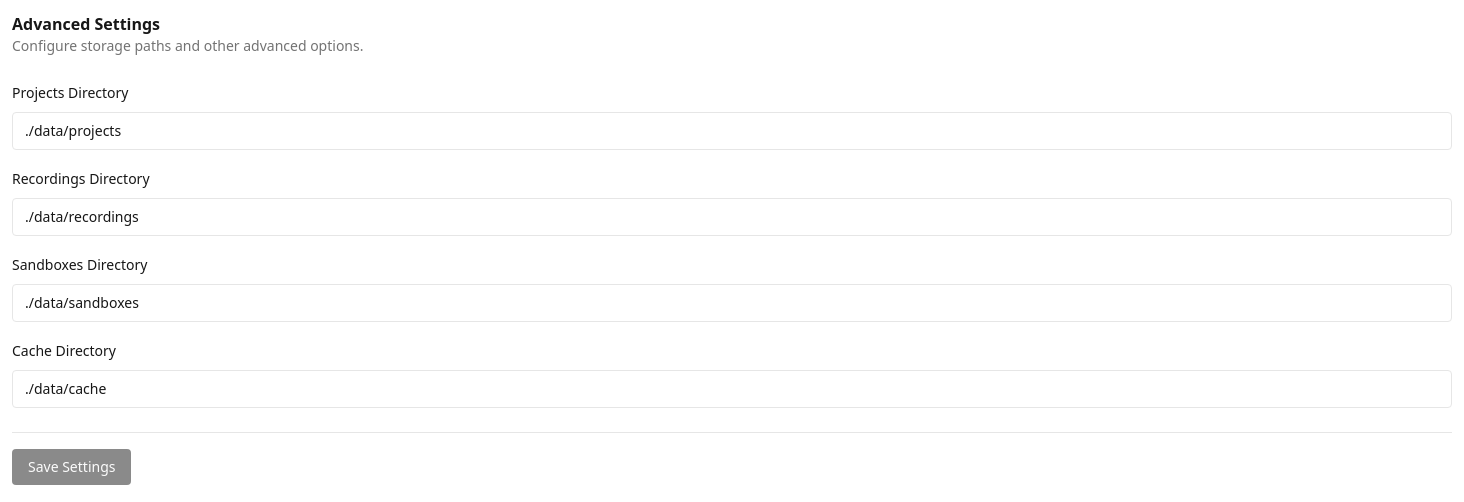
AdvancedSection › should disable Save button after saving
Replace the text in the field below "Projects Directory" with "/new/projects" at (732, 131), box [12, 112, 1452, 150]
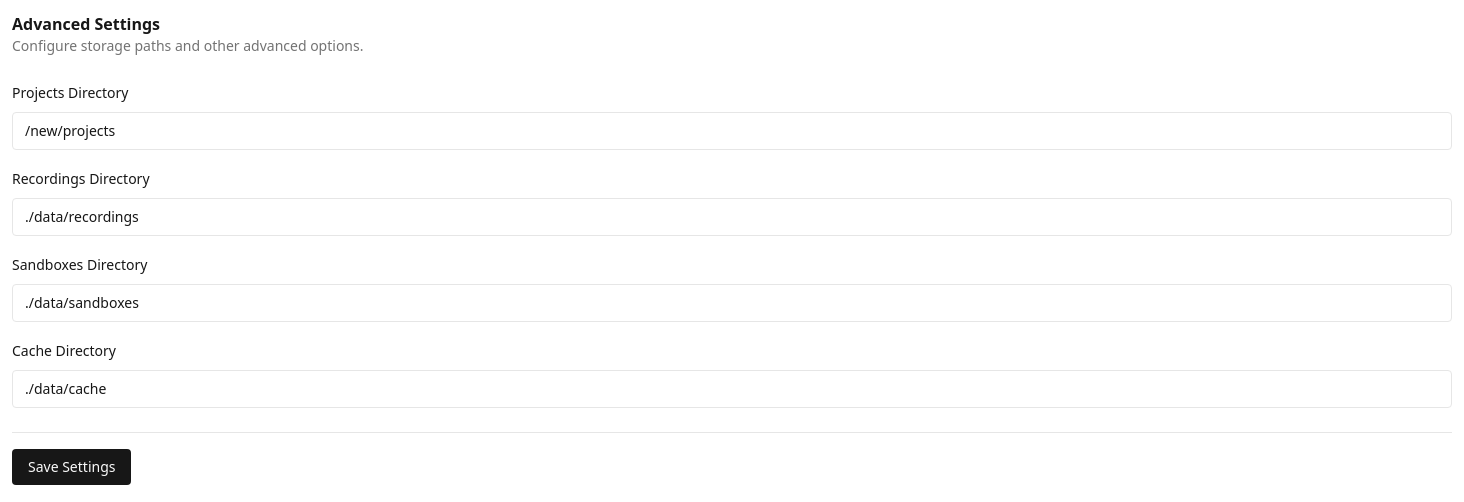
Click the button "Save Settings".
click(72, 467)  # box [12, 449, 132, 485]
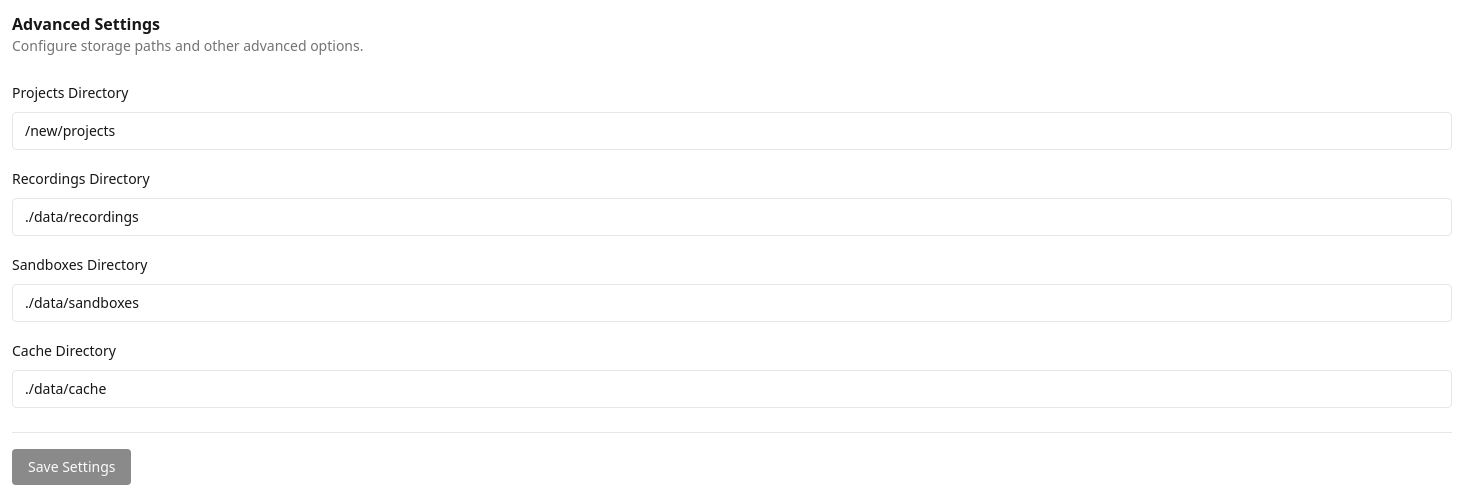
Expected: the button "Save Settings" is disabled, [12, 449, 132, 485]
